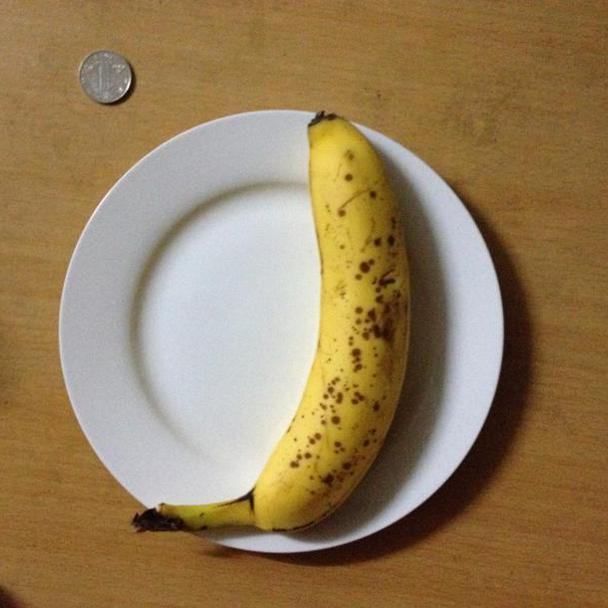banana: (255, 106, 425, 541)
